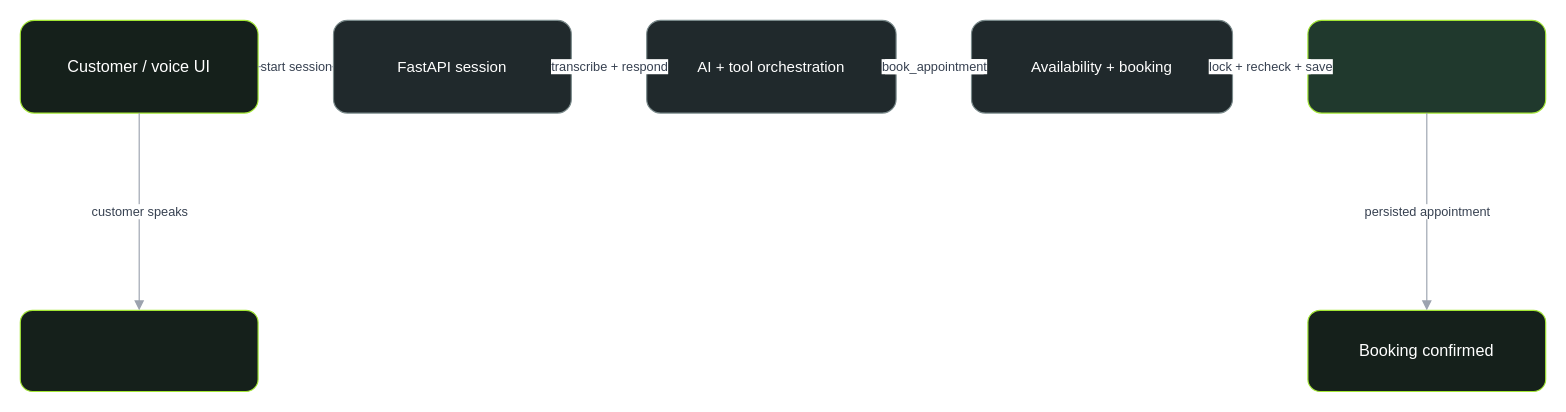
Image size: 1566x412. Some labels were removed from this diagram. The shapes that lost their labels are listed below. From the top down, each one's centre as x and y in pixels, then its label:
At point (1426, 66): "Business database".
At point (138, 350): "Voice request".
